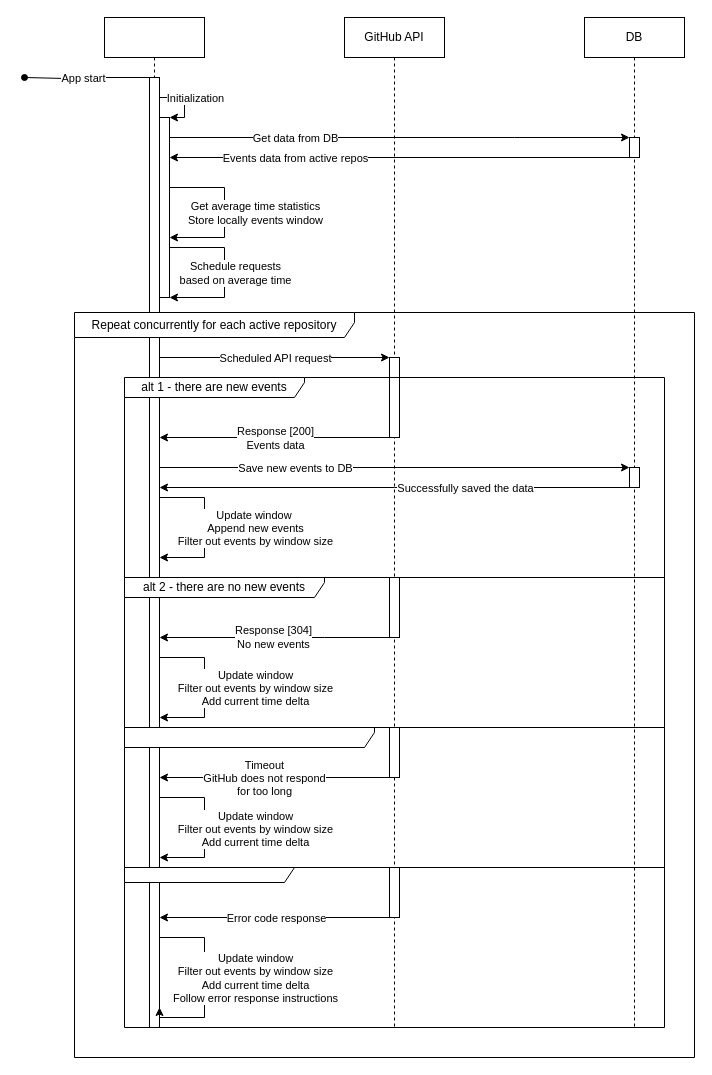
Some shapes in this 712 by 1075 pixel diagram are drawn without their labels. Each missing label, with the centre of its shape:
:Scheduler: (x=154, y=307)
alt 3 - long github response (up to 6 hours): (x=394, y=797)
else: (x=394, y=947)
